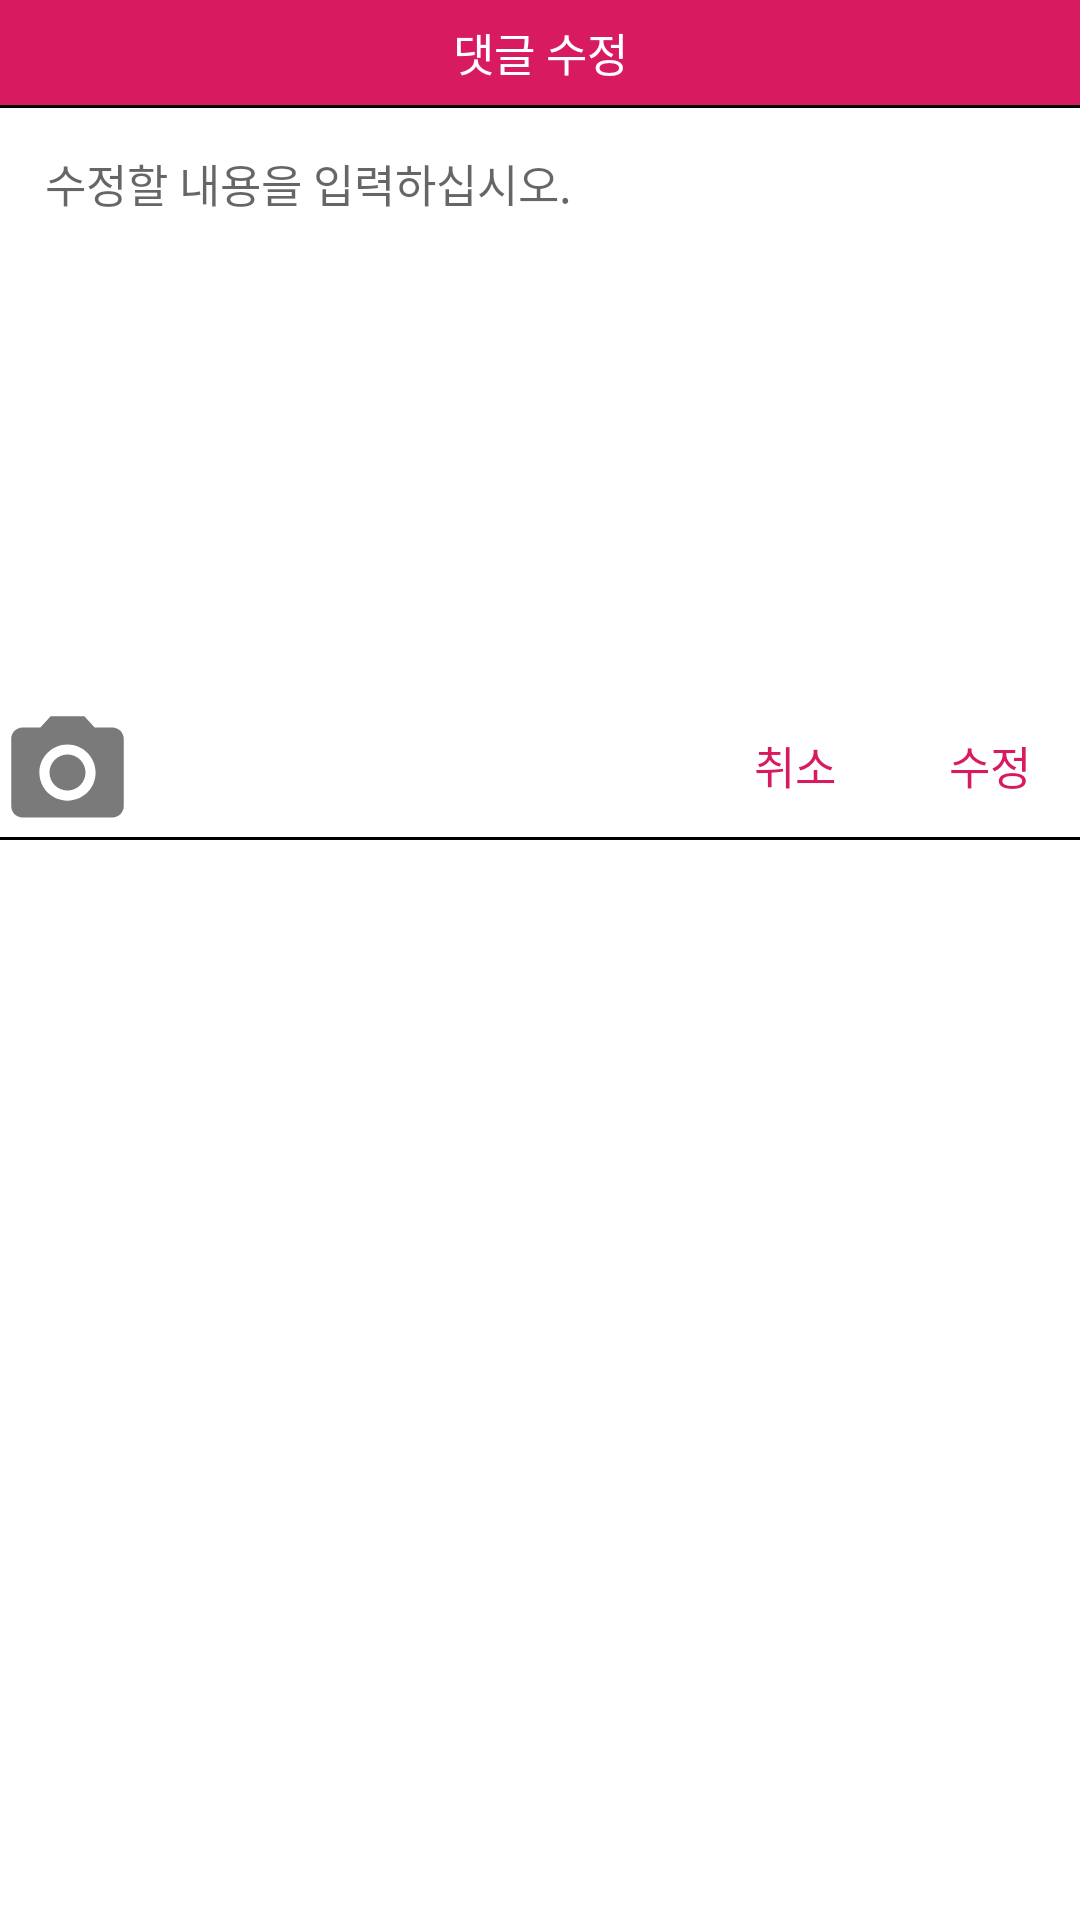

Screen size 1080*1920. Icon name, then its box in pixels as (x1=x1, y1=y1, x2=x2, y2=y2):
write forum camera: (x1=11, y1=716, x2=124, y2=818)
